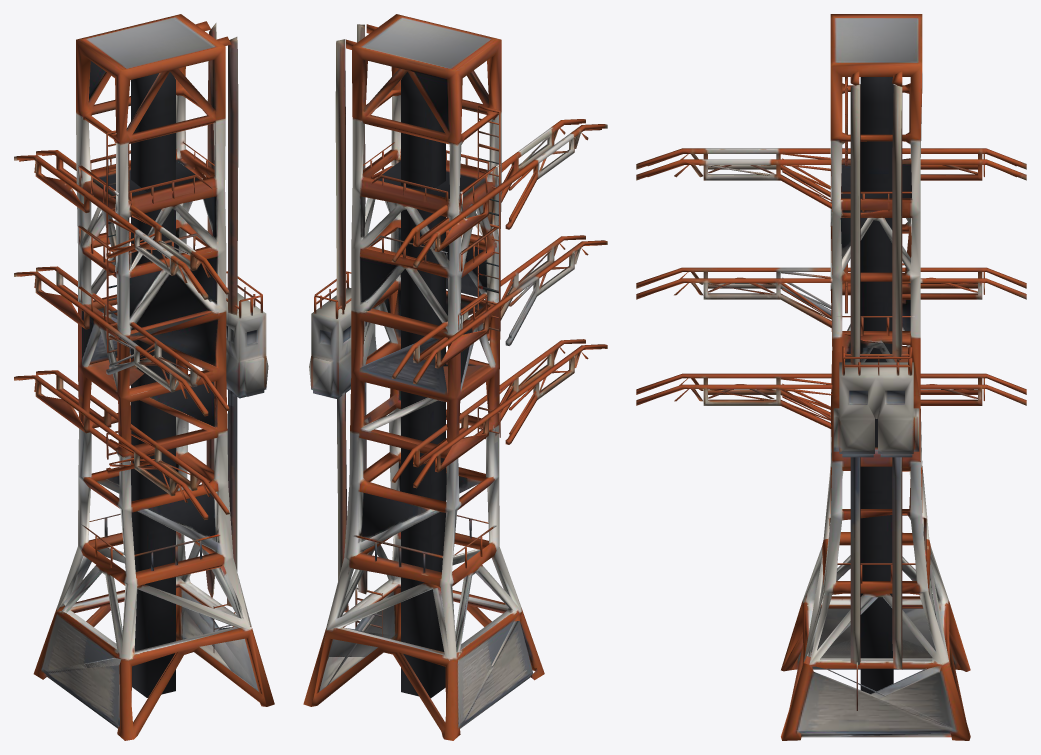
File: original_glb.glb
3 views of the same model, side by side, from view 1: azimuth 30°, elevation 25°; view 2: azimuth 150°, elevation 25°; view 3: azimuth 270°, elevation 25° (orthographic). The views are drawn at different scales.
Parts seen in each view (by area): view 1: Service Gantry Tower; view 2: Service Gantry Tower; view 3: Service Gantry Tower.
Part boxes in pixels (box(x1,y1,x2,y2)): Service Gantry Tower: box(14, 14, 274, 740); Service Gantry Tower: box(303, 14, 607, 740); Service Gantry Tower: box(636, 14, 1026, 740).
Bounding box in the file's own units: 0.2871 × 0.998 × 0.5332.
1 material, 1 textured.
